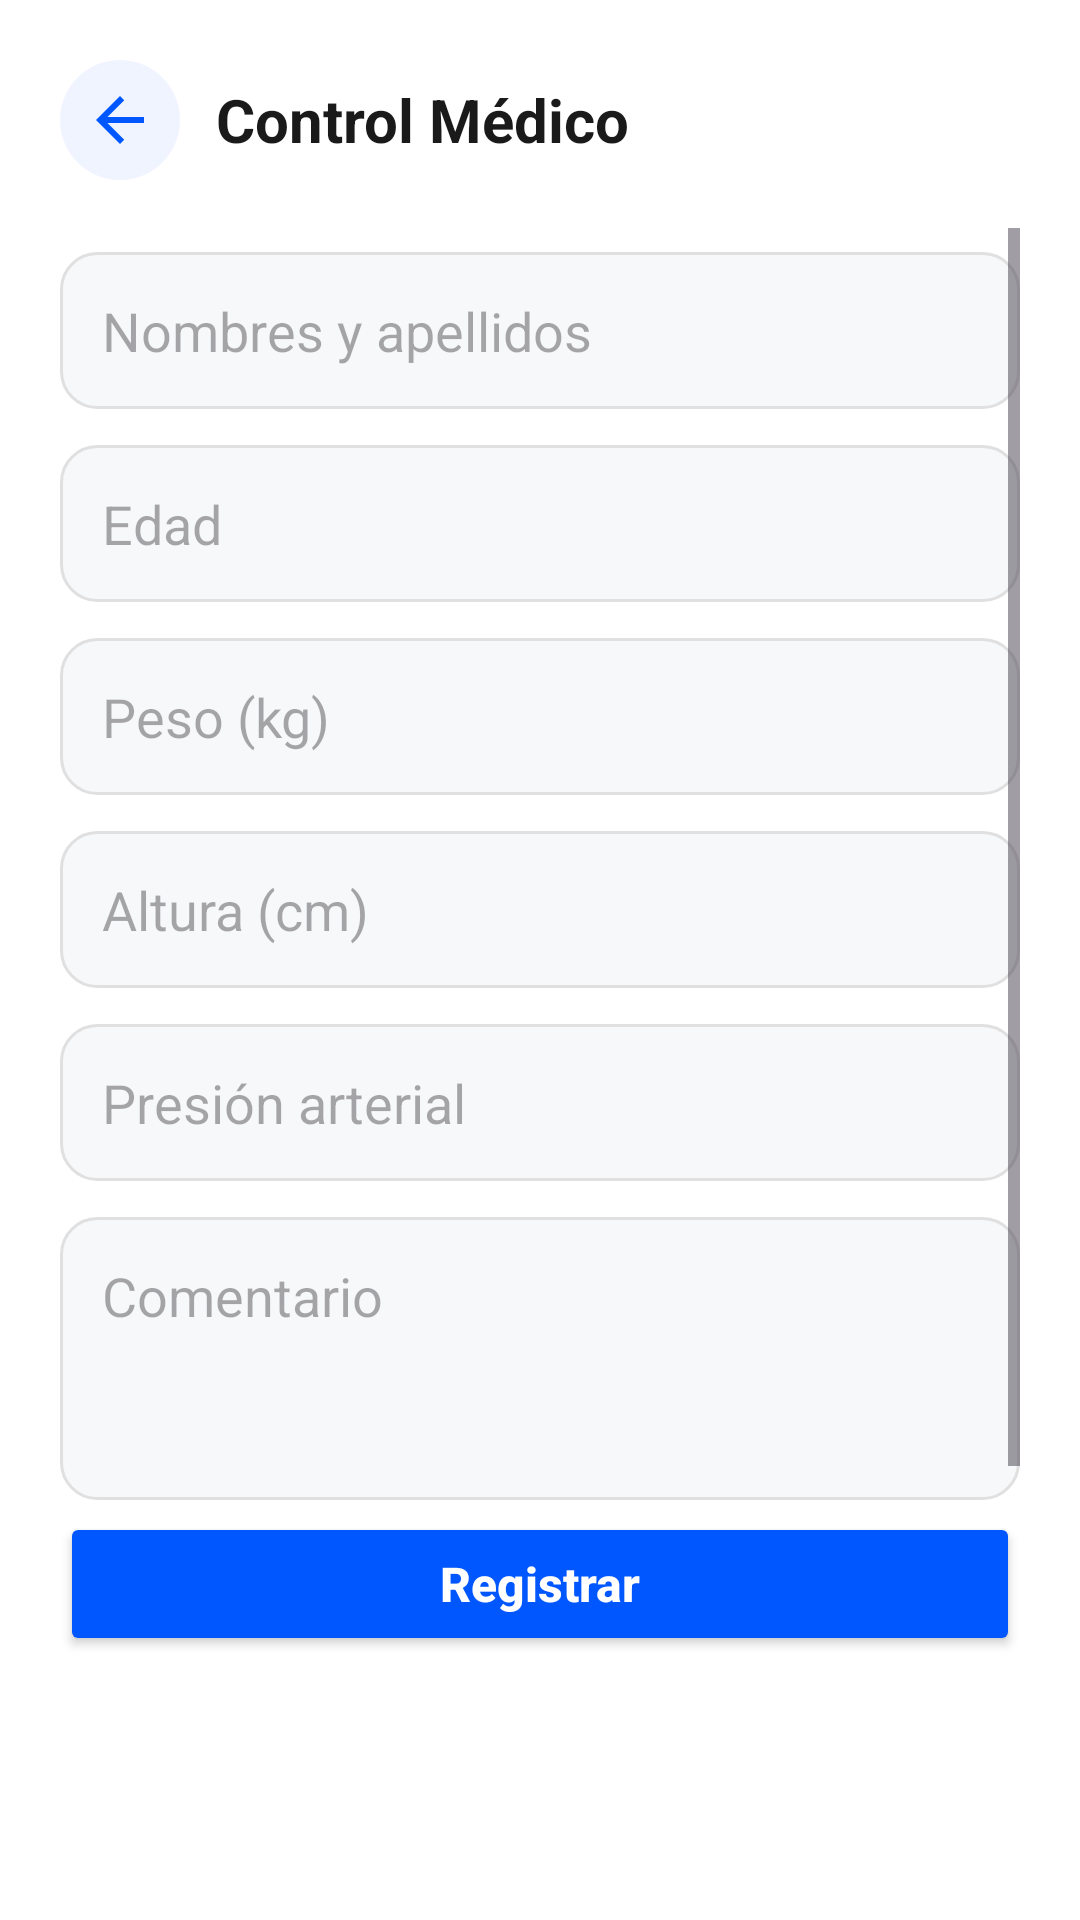

Locate icon controls on the screen. Image size 1080px x 1920px, boxes as rect(x1, y1, x2, y2).
Regresar: rect(60, 60, 180, 180)
